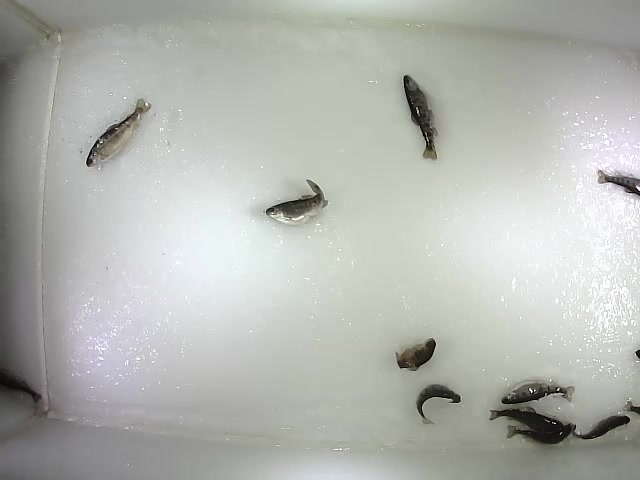fish: (83, 96, 155, 169), (263, 177, 331, 228), (402, 73, 440, 163), (414, 382, 463, 426), (500, 380, 577, 406), (488, 407, 566, 431), (506, 420, 576, 445), (394, 336, 437, 373), (572, 414, 630, 440)
